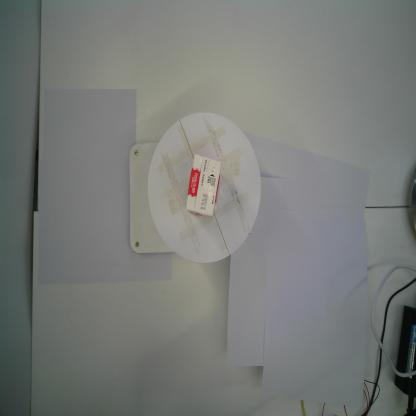Milk: (185, 152, 222, 220)
